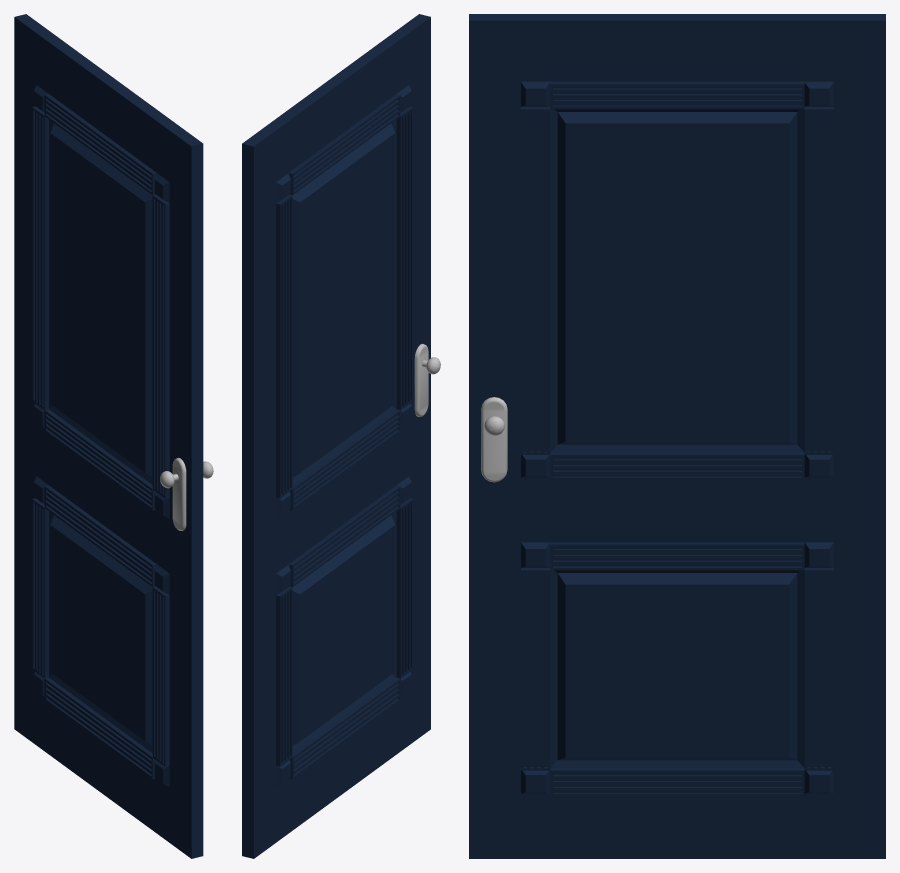
The model's file is blue door.fbx.
3 renders of one model, left to right at view 1: azimuth 30°, elevation 25°; view 2: azimuth 150°, elevation 25°; view 3: azimuth 270°, elevation 25°, orthographic. The views are drawn at different scales.
Visible parts, largest first — view 1: door 2; view 2: door 2; view 3: door 2.
Part boxes in pixels (x1,y1,x2,y2): door 2: (14, 14, 213, 858); door 2: (242, 14, 440, 858); door 2: (469, 14, 885, 858).
Size of the model in its own units: 14.87 by 200 by 89.97.
